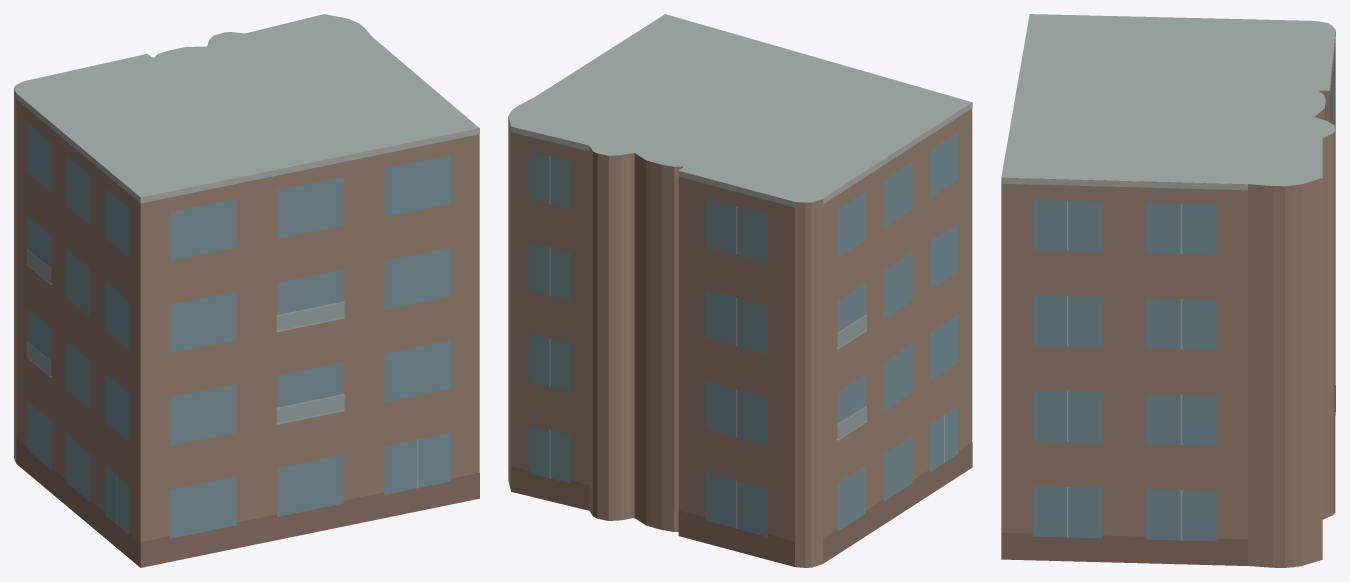
The model's file is survey-upis-33016454.glb.
3 views of the same model, side by side, from view 1: azimuth 30°, elevation 25°; view 2: azimuth 150°, elevation 25°; view 3: azimuth 270°, elevation 25° (orthographic). The views are drawn at different scales.
Parts seen in each view (by area): view 1: survey-upis-33016454.tmp; view 2: survey-upis-33016454.tmp; view 3: survey-upis-33016454.tmp.
Part boxes in pixels (x1,y1,x2,y2): survey-upis-33016454.tmp: [14, 14, 479, 567]; survey-upis-33016454.tmp: [508, 14, 972, 567]; survey-upis-33016454.tmp: [1001, 14, 1335, 567].
Bounding box in the file's own units: 14.8 × 15.3 × 12.16.
